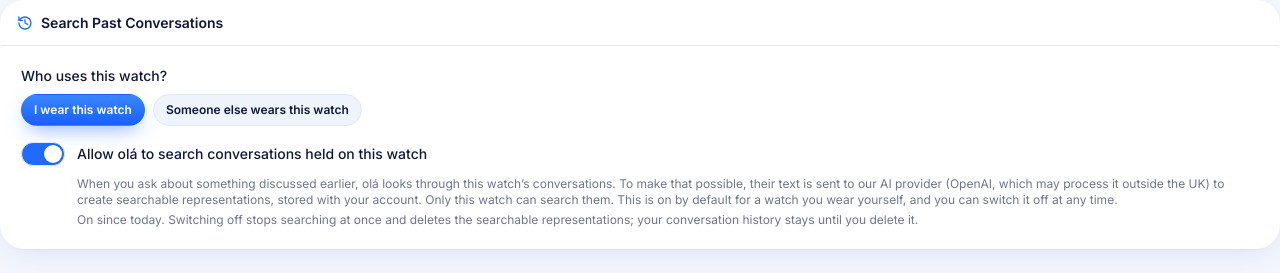
Test: Search Past Conversations (per watch) › offers no switch for a watch someone else wears, and declaring it switches off
Click the button "Someone else wears this watch" at (257, 110), box [153, 94, 362, 126]
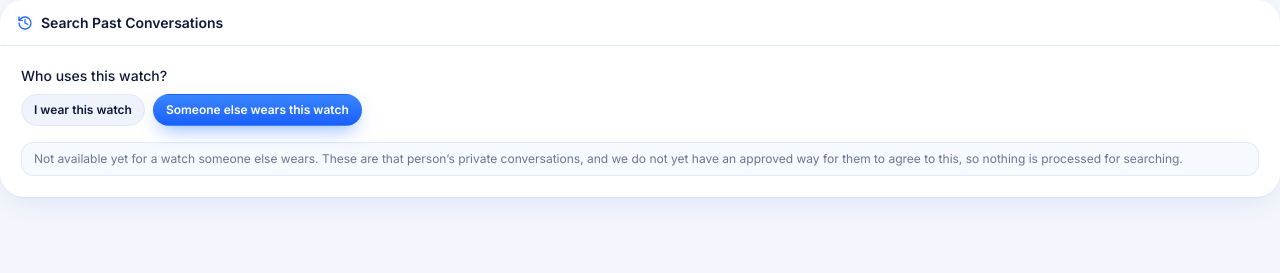
Check: the text with test id "wearer-unavailable" shows "Not available yet", box [34, 151, 1183, 166]
Check: the switch is gone
